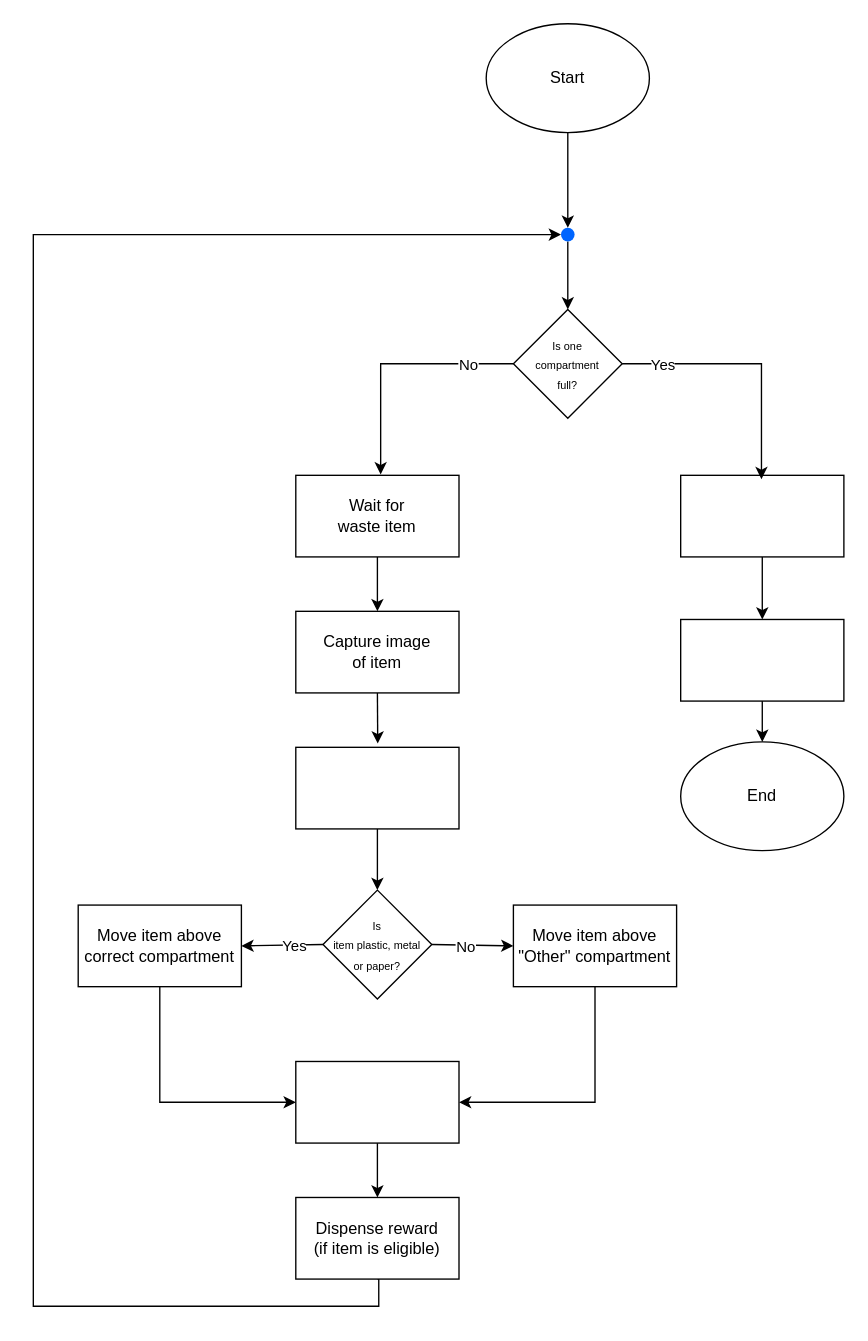
This 868x1341 diagram has some shape labels left out. The box of each missing label's shape, as (x1, y1, x2, y2) in pixels:
Classify item using AI: (294, 746, 459, 829)
Drop item and reset compartment position: (294, 1060, 459, 1143)
Indicate bin full via LED: (679, 618, 844, 701)
Lock bin: (679, 474, 844, 557)
